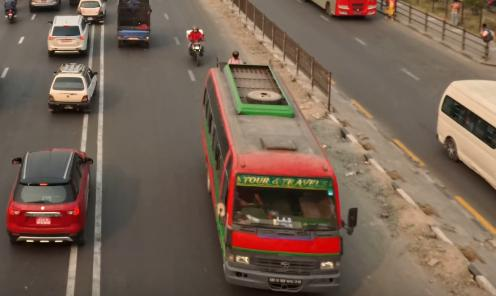bus: (195, 48, 375, 296)
car: (4, 143, 99, 249), (44, 14, 92, 57)
micro_bus: (435, 74, 496, 193)
